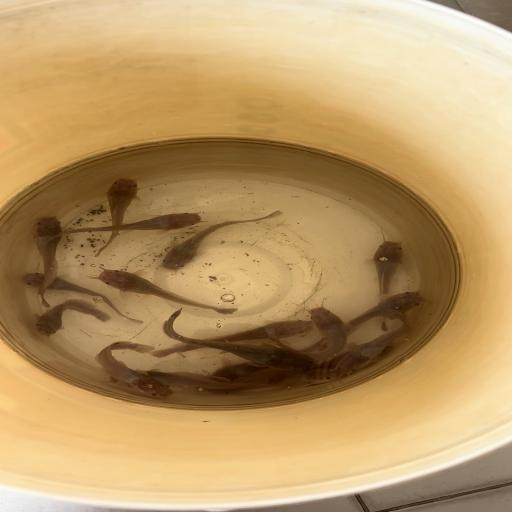lele: (158, 307, 314, 371), (163, 210, 284, 271), (91, 267, 238, 316), (148, 319, 316, 359), (18, 272, 144, 323), (304, 320, 393, 388), (43, 212, 204, 245), (214, 336, 334, 380), (334, 312, 414, 376), (106, 366, 280, 392), (94, 342, 174, 398), (88, 178, 143, 259), (370, 238, 413, 331), (32, 214, 72, 311), (341, 290, 427, 331), (30, 299, 113, 337), (306, 306, 350, 362)
